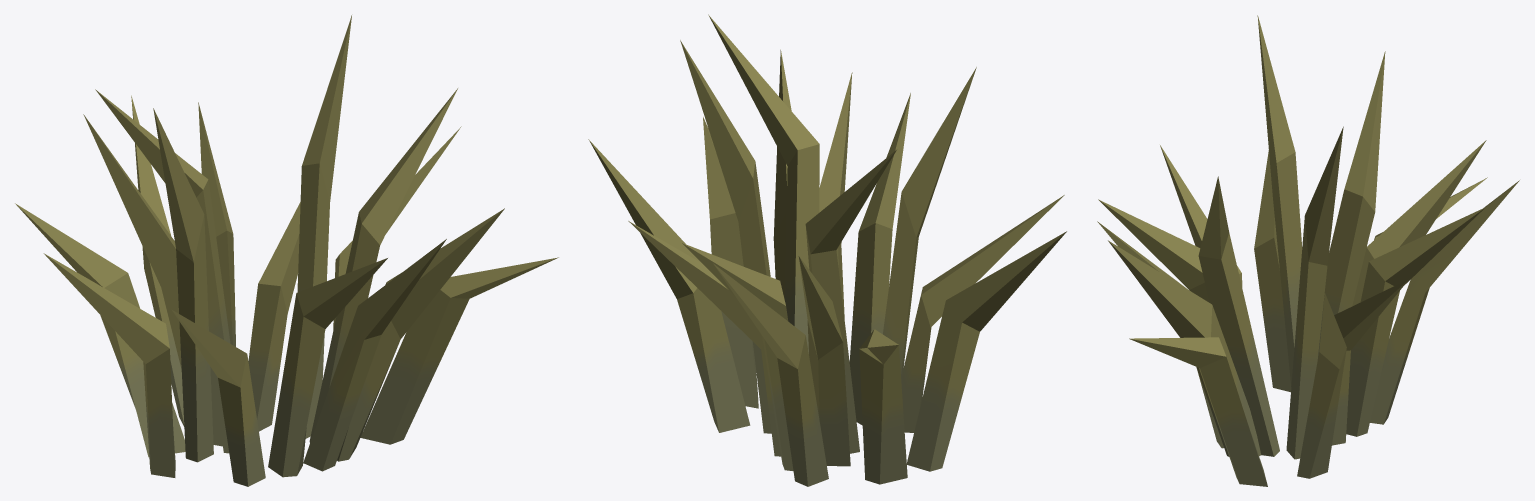
Rendered from SM_Env_Grass_03.obj.
The picture shows the model from 3 angles, left to right: view 1: azimuth 30°, elevation 25°; view 2: azimuth 150°, elevation 25°; view 3: azimuth 270°, elevation 25°; orthographic projection. The views are drawn at different scales.
Parts seen in each view (by area): view 1: SM_Env_Grass_03_0; view 2: SM_Env_Grass_03_0; view 3: SM_Env_Grass_03_0.
Boxes of the visible parts, <box> form: SM_Env_Grass_03_0: <box>15,15,558,486</box>; SM_Env_Grass_03_0: <box>588,14,1066,486</box>; SM_Env_Grass_03_0: <box>1097,15,1519,486</box>.
Bounding box in the file's own units: 1.34 × 1.11 × 1.18.
1 material, 1 textured.
